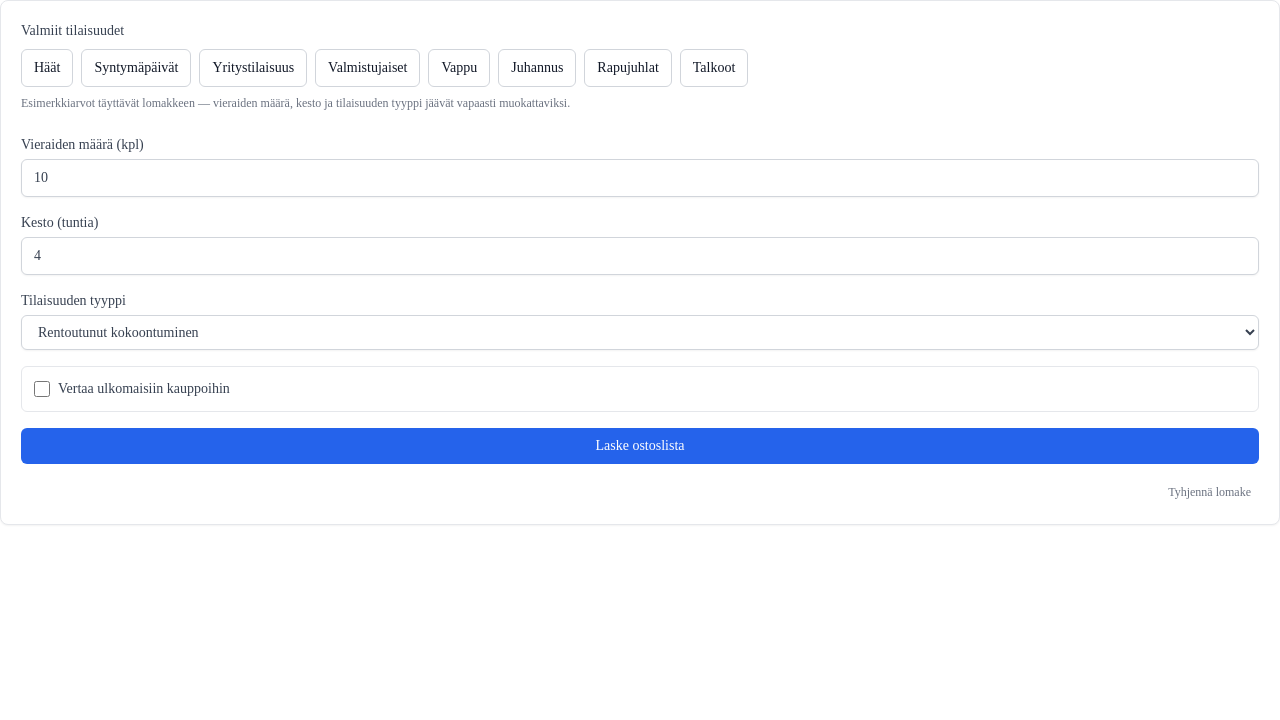
Test: EventPage — estimate handoff (3.1) › offers no handoff when the estimate has nothing to buy
Step 1. Click the button "Laske ostoslista" → (640, 446), box [21,428,1259,464]
(page scrolled)
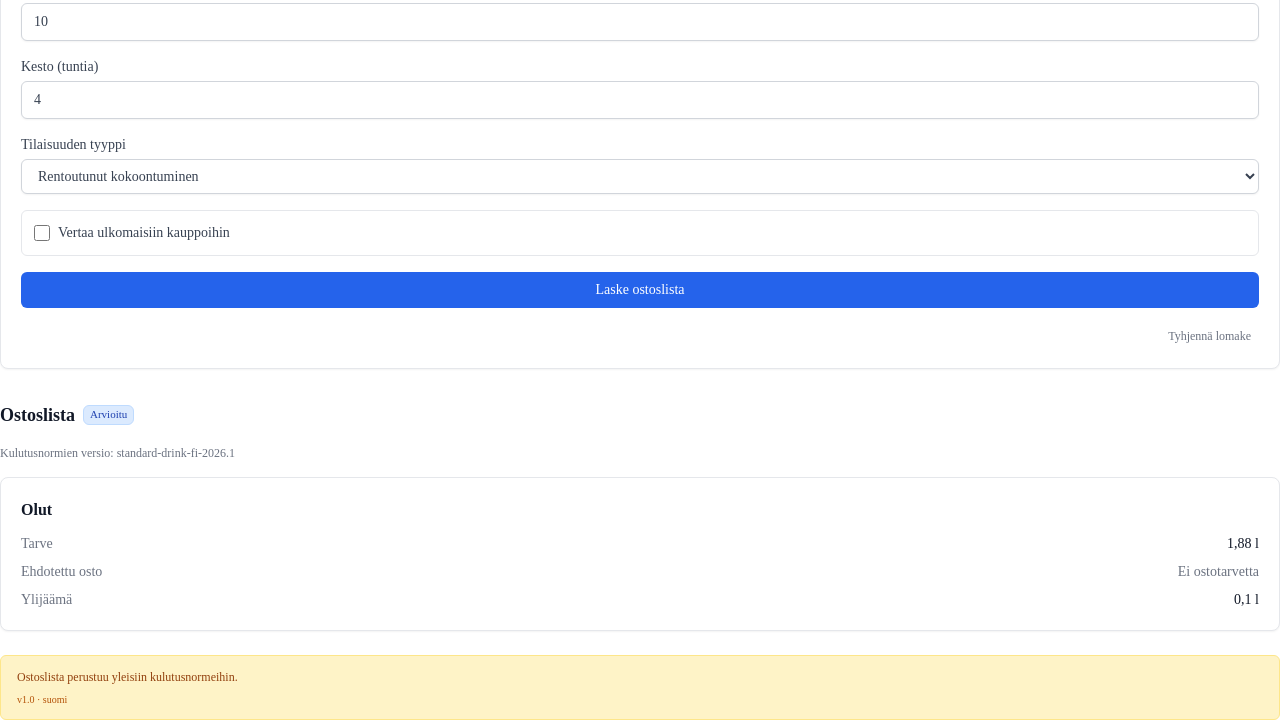
Check: the element with test id "event-result" is shown, box [0,401,1279,719]
